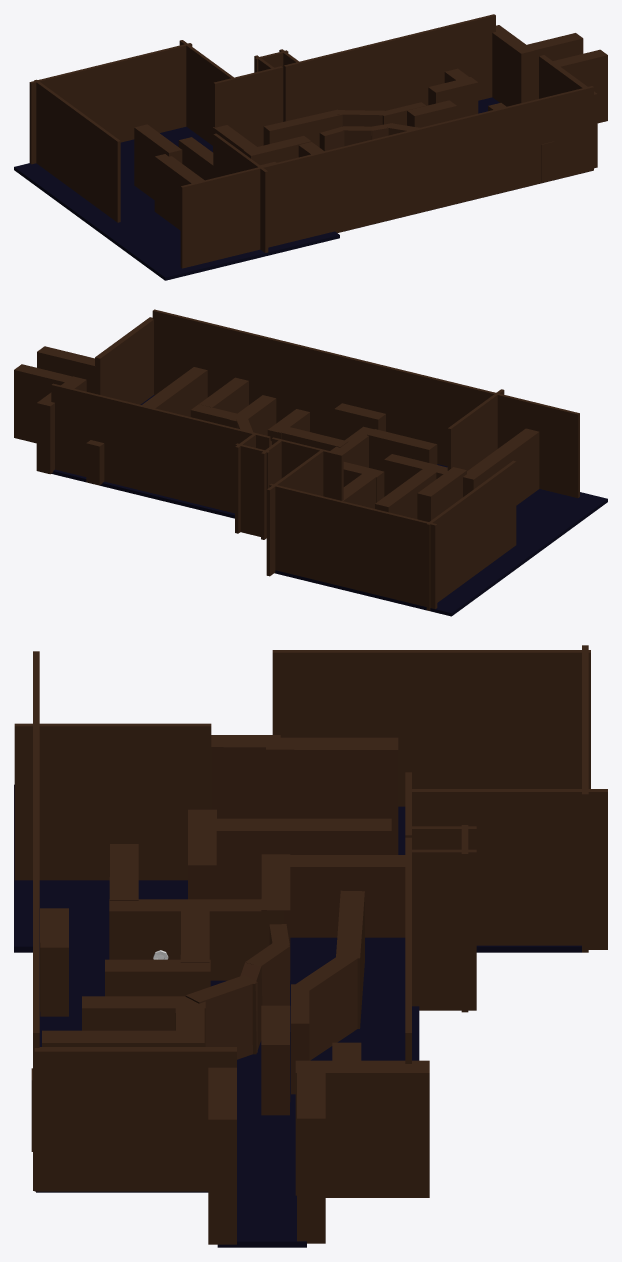
Rendered from puzzle_room_layout.glb.
3 renders of one model, top to bottom at view 1: azimuth 30°, elevation 25°; view 2: azimuth 150°, elevation 25°; view 3: azimuth 270°, elevation 25°, orthographic. The views are drawn at different scales.
Parts seen in each view (by area): view 1: Cube.049, Cube.002, Cube.078, Cube.083, Cube.075, Cube.069, Cube.001, Cube.084, Cube.050, Cube.056, Cube.082, Cube.086 (+17 smaller); view 2: Cube.083, Cube.001, Cube.002, Cube.049, Cube.084, Cube.078, Cube.075, Cube.069, Cube.046, Cube.086, Cube.023, Cube.057 (+23 smaller); view 3: Cube.084, Cube.023, Cube.046, Cube.082, Cube, Cube.056, Cube.085, Cube.072, Cube.062, Cube.081, Cube.080, Cube.075 (+28 smaller).
Part boxes in pixels (x1=…): Cube.049: x1=317, y1=119, x2=456, y2=234; Cube.002: x1=454, y1=86, x2=593, y2=203; Cube.078: x1=180, y1=153, x2=320, y2=268; Cube.083: x1=29, y1=43, x2=192, y2=164; Cube.075: x1=14, y1=126, x2=339, y2=280; Cube.069: x1=283, y1=32, x2=423, y2=121; Cube.001: x1=357, y1=14, x2=495, y2=110; Cube.084: x1=34, y1=79, x2=120, y2=222; Cube.050: x1=213, y1=66, x2=282, y2=146; Cube.056: x1=492, y1=25, x2=534, y2=106; Cube.082: x1=179, y1=40, x2=233, y2=145; Cube.086: x1=154, y1=154, x2=204, y2=230; Cube.083: x1=269, y1=483, x2=437, y2=609; Cube.001: x1=51, y1=383, x2=194, y2=503; Cube.002: x1=152, y1=309, x2=296, y2=423; Cube.049: x1=294, y1=344, x2=438, y2=443; Cube.084: x1=426, y1=460, x2=516, y2=610; Cube.078: x1=435, y1=379, x2=579, y2=498; Cube.075: x1=274, y1=464, x2=607, y2=616; Cube.069: x1=126, y1=402, x2=270, y2=513; Cube.046: x1=95, y1=317, x2=153, y2=404; Cube.086: x1=463, y1=428, x2=539, y2=505; Cube.023: x1=447, y1=389, x2=504, y2=470; Cube.057: x1=14, y1=364, x2=81, y2=443; Cube.084: x1=272, y1=650, x2=590, y2=806; Cube.023: x1=14, y1=723, x2=211, y2=880; Cube.046: x1=34, y1=1047, x2=236, y2=1191; Cube.082: x1=411, y1=789, x2=607, y2=949; Cube: x1=36, y1=944, x2=419, y2=1192; Cube.056: x1=295, y1=1060, x2=429, y2=1197; Cube.085: x1=266, y1=737, x2=398, y2=854; Cube.072: x1=412, y1=849, x2=476, y2=1010; Cube.062: x1=109, y1=899, x2=283, y2=980; Cube.081: x1=208, y1=818, x2=391, y2=899; Cube.080: x1=277, y1=855, x2=405, y2=937; Cube.075: x1=14, y1=784, x2=581, y2=952.
Size of the model in its own units: 55.75 by 10.44 by 30.57.
